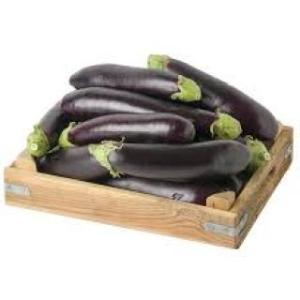eggplant: (151, 54, 279, 138), (64, 85, 234, 133), (104, 140, 252, 180), (70, 65, 202, 101), (54, 112, 196, 140)
